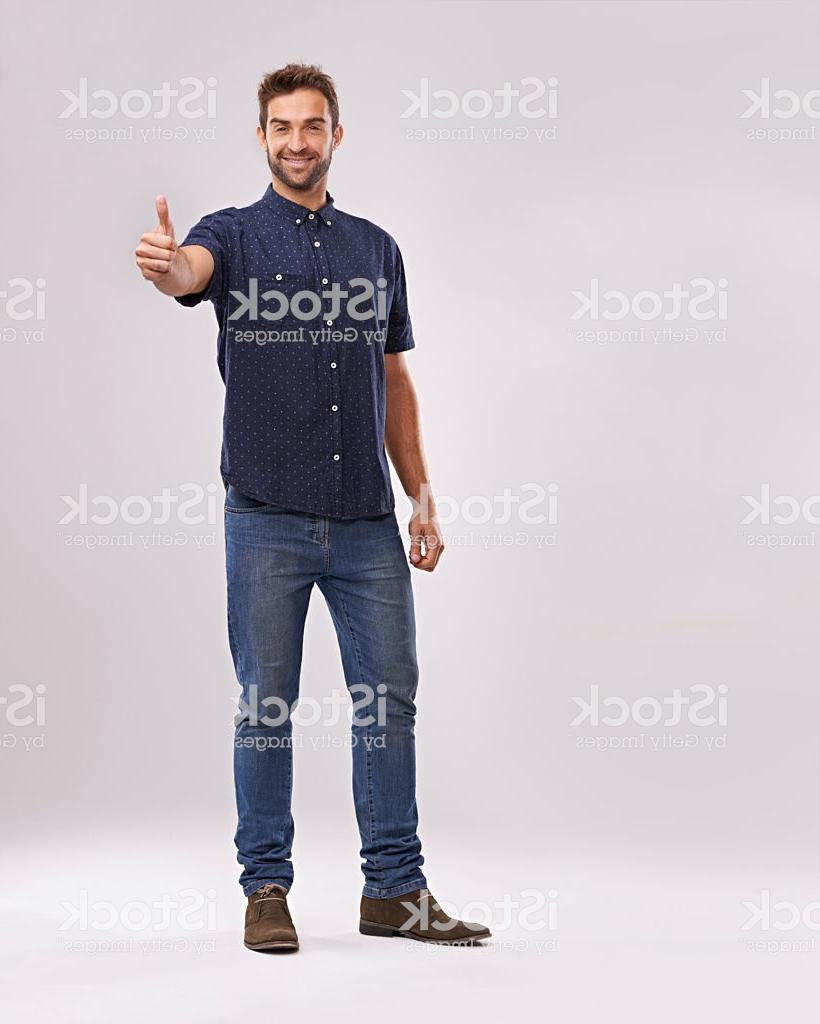thumbsup: (134, 193, 178, 283)
